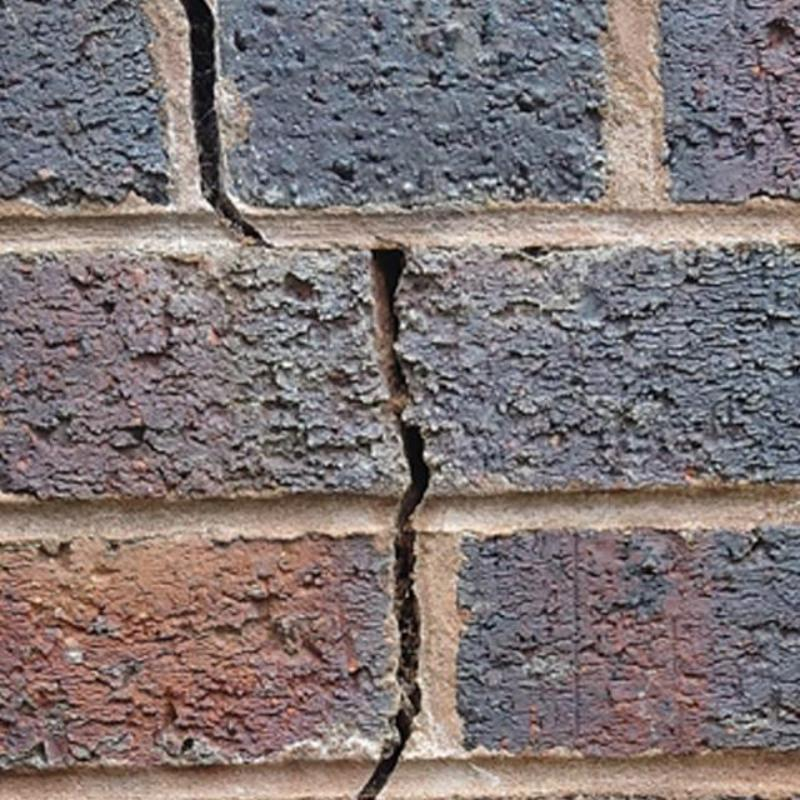crack: (358, 250, 430, 800), (180, 0, 261, 240)
